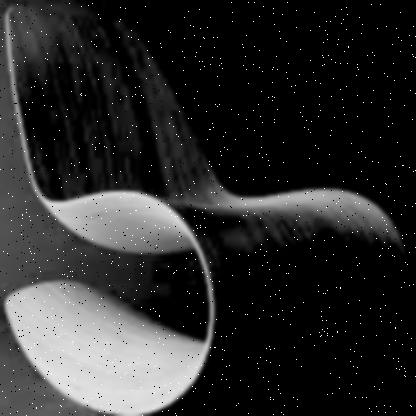chair: (0, 2, 414, 416)
